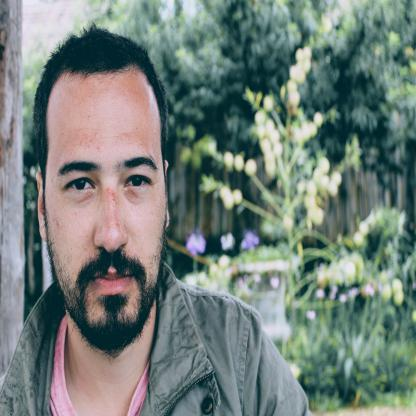Eye: (62, 176, 97, 199), (122, 172, 152, 197)
Mouth: (91, 270, 135, 299)
Nose: (93, 189, 129, 254)
